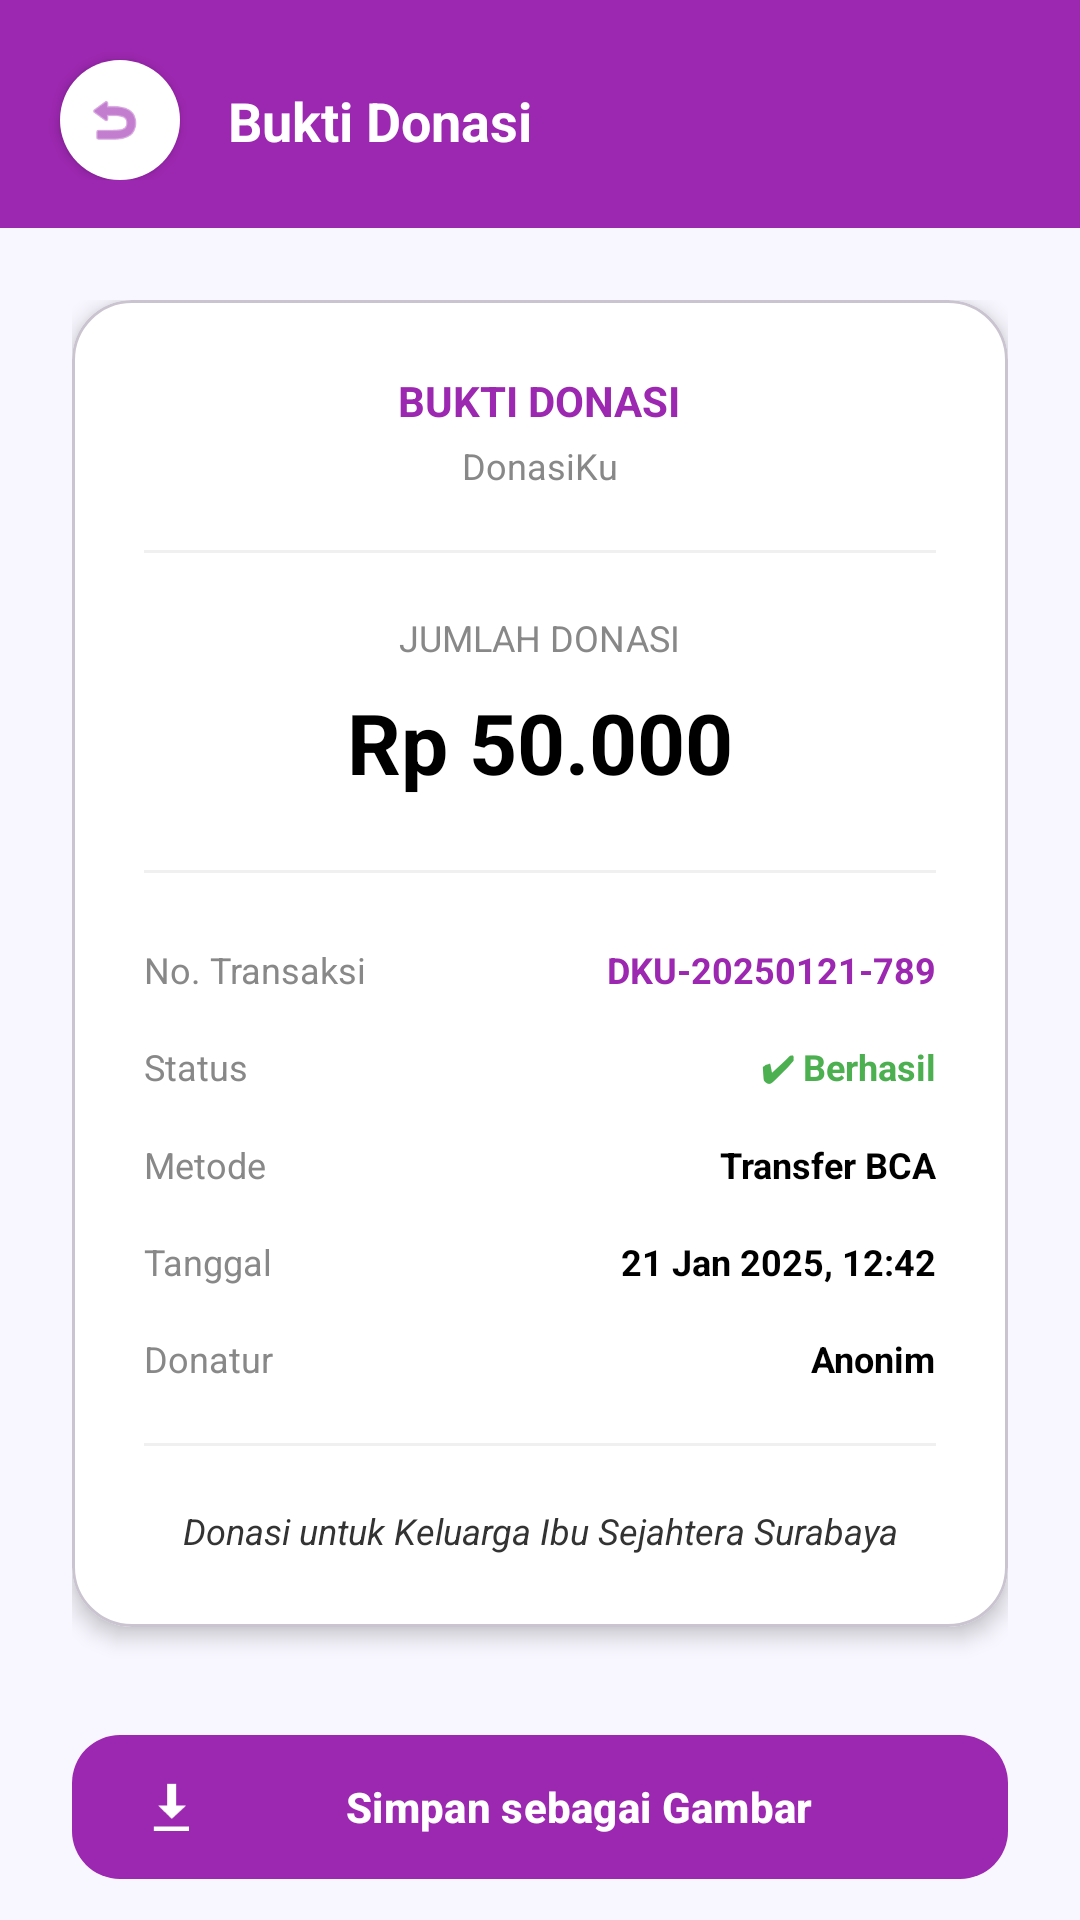

Where icons sit on this 1080w x 1920h app screen, as (x1, y1, x2, y2):
revert: (60, 60, 180, 180)
